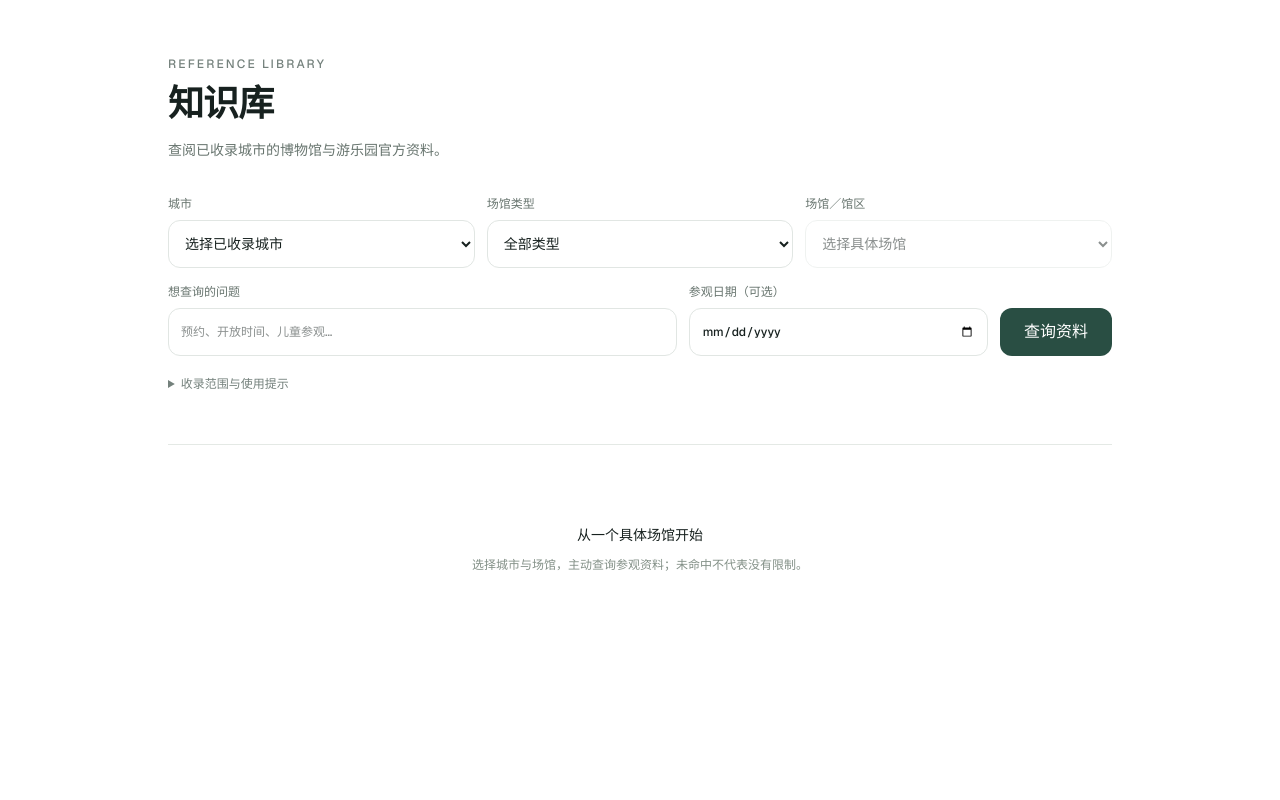
Test: national reference page remains retrieval-only › renders complete summary separately from excerpt, source dates and exact new-tab reviewed link
Select "上海" in the dropdown labelled "城市". click: (321, 244)
box: [168, 220, 475, 268]
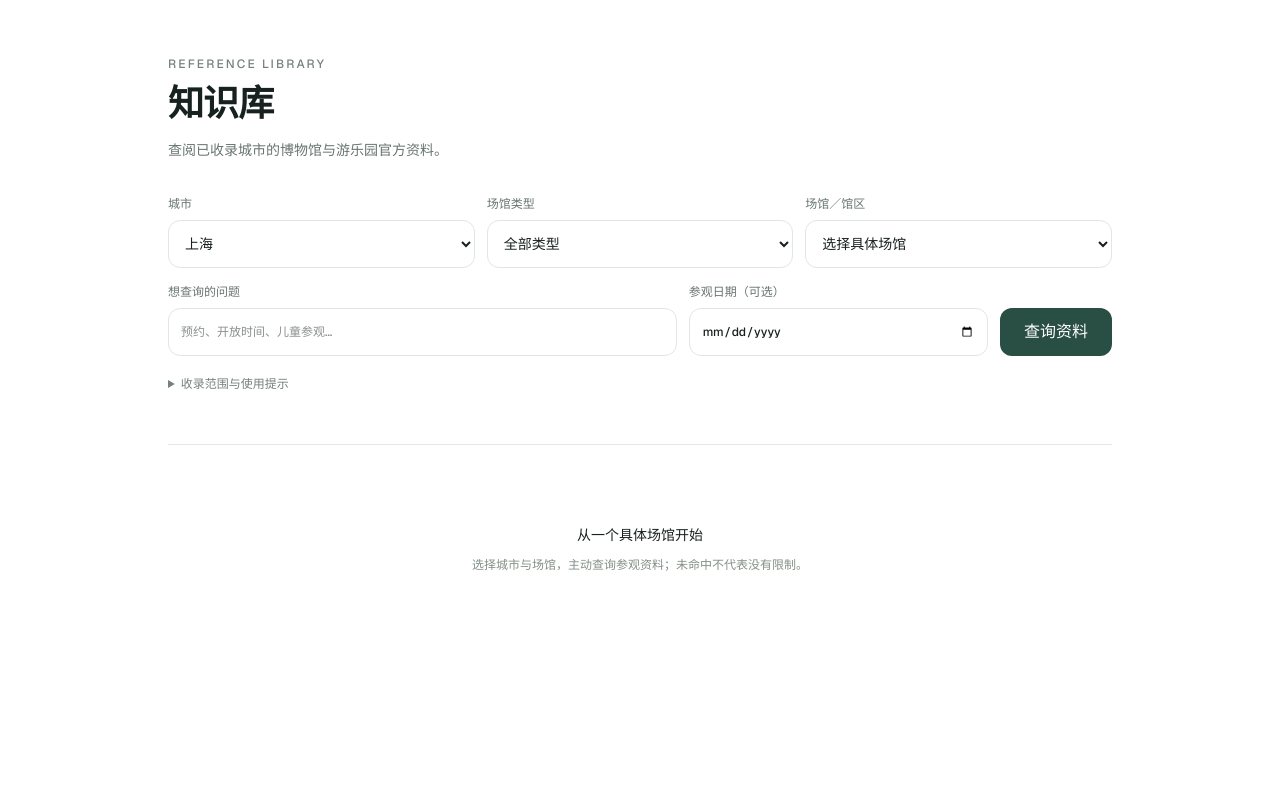
Select "受控上海馆" in the dropdown labelled "场馆／馆区". click: (959, 244)
box: [805, 220, 1112, 268]
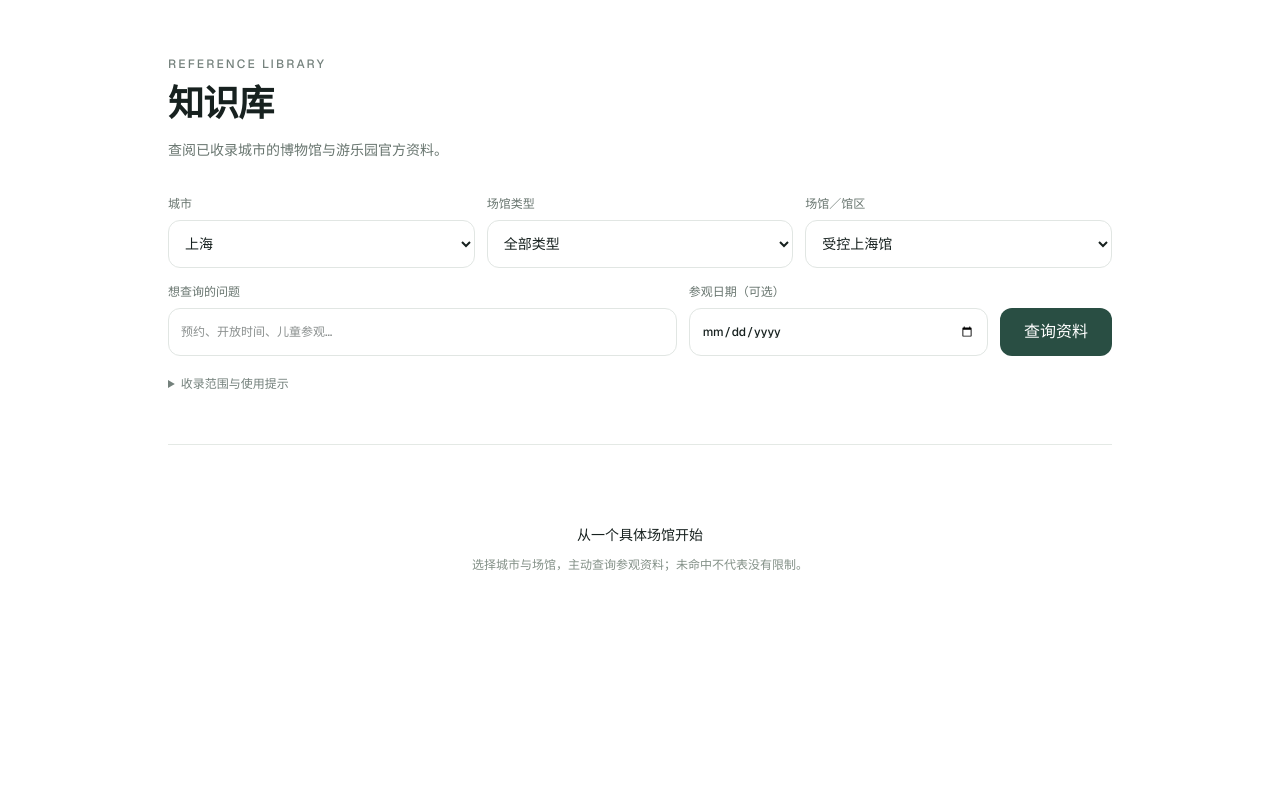
Type "预约说明" into the field labelled "想查询的问题". click: (422, 332)
box: [168, 308, 677, 356]
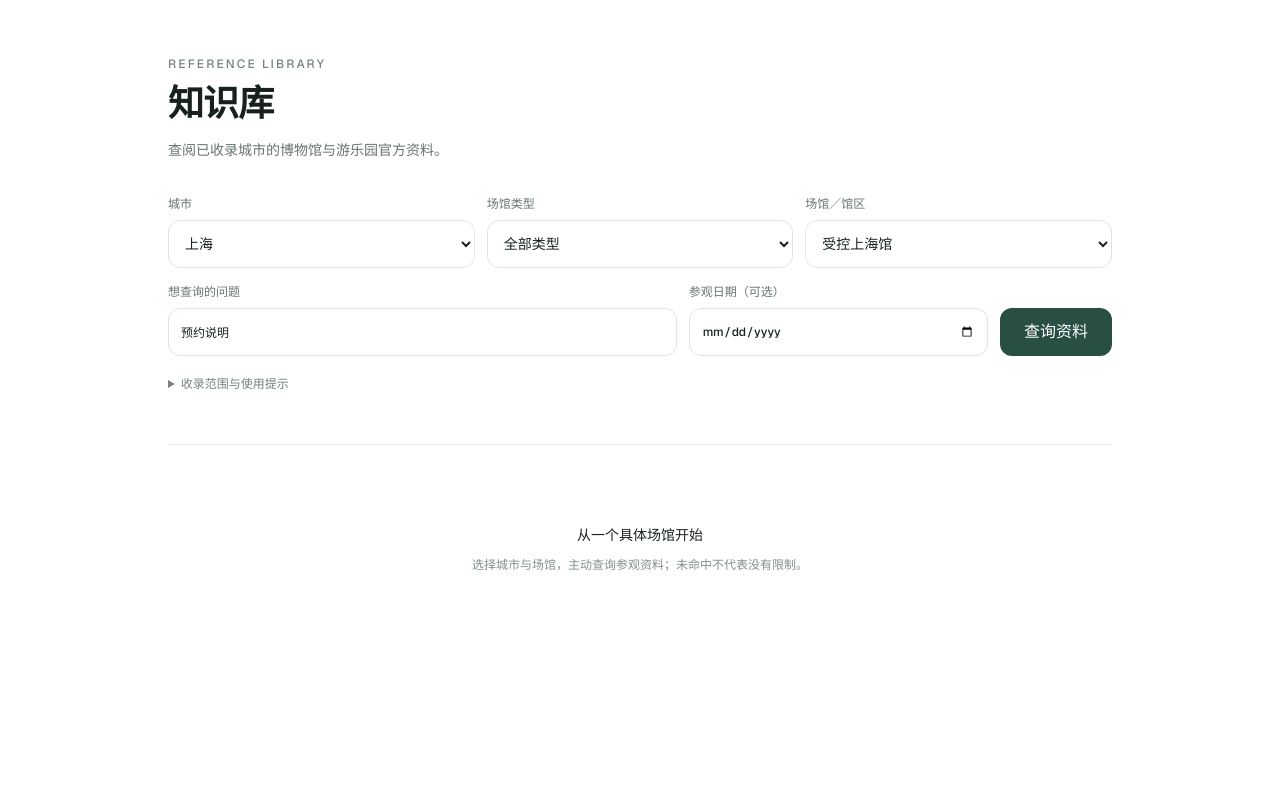
Submit the form "查询资料", box [168, 196, 1112, 356]
(page scrolled)
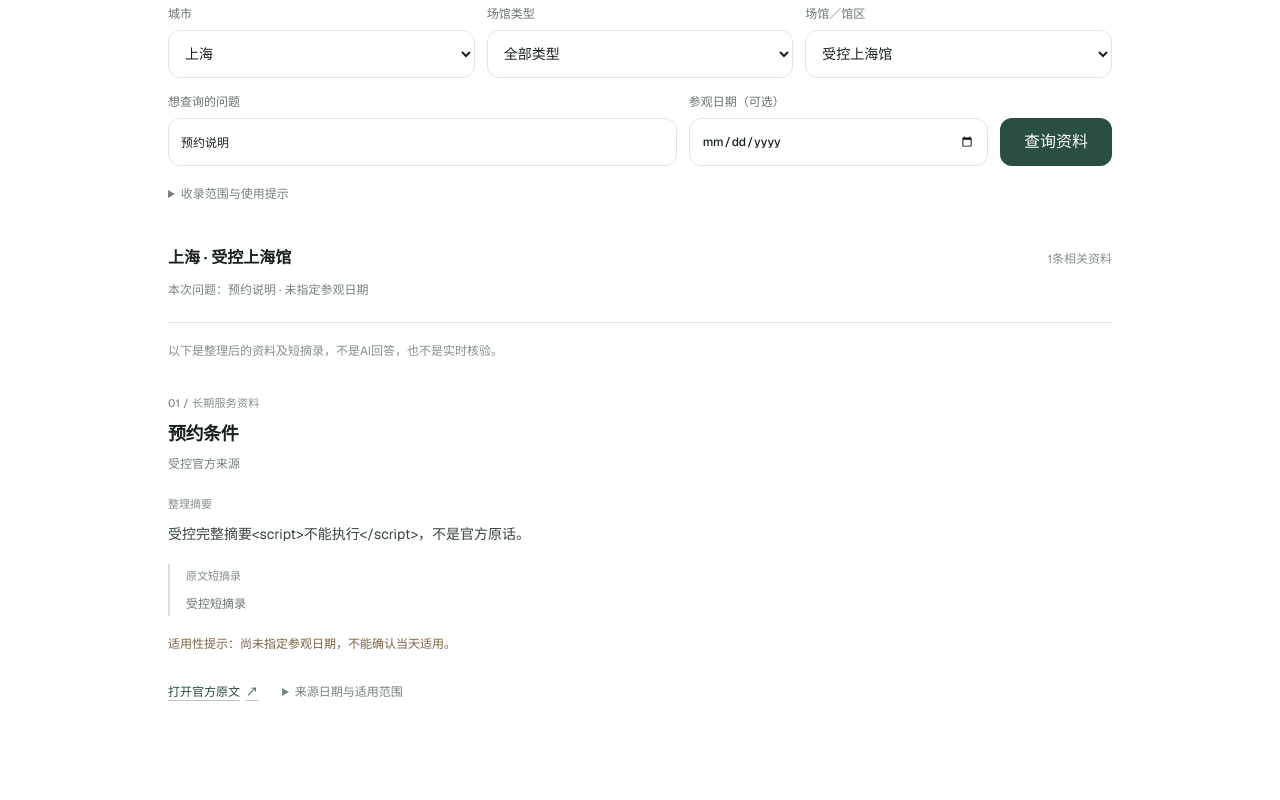
expect the text "受控完整摘要<script>不能执行</script>，不是官方原话。" is shown: met, box [168, 525, 530, 543]
expect the text "整理摘要" is shown: met, box [168, 496, 212, 510]
expect the text "原文短摘录" is shown: met, box [186, 569, 241, 583]
Click the heading "来源日期与适用范围". click: (342, 692)
box: [282, 680, 403, 704]
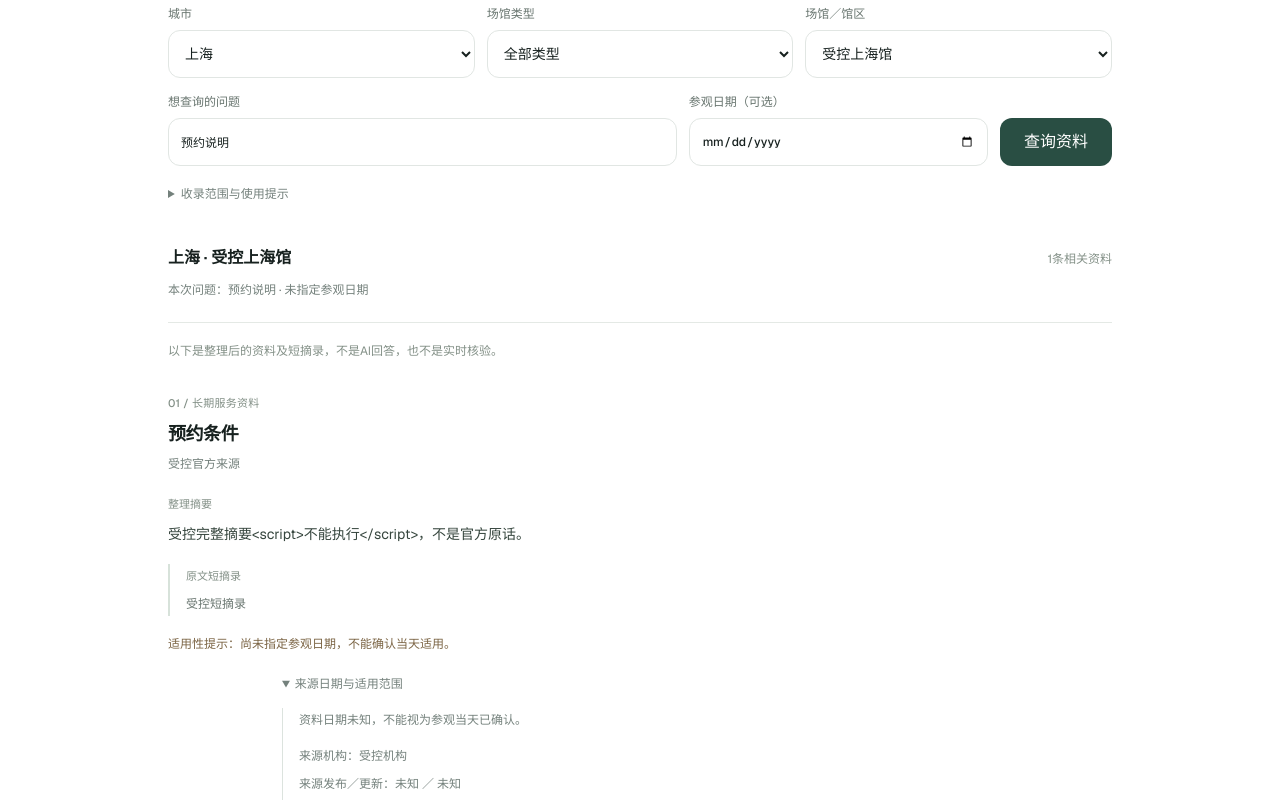
expect the text "适用性提示：尚未指定参观日期，不能确认当天适用。" is shown: met, box [168, 636, 456, 652]
expect the text "来源日期与适用范围" shows "未知": met, box [395, 776, 419, 792]
